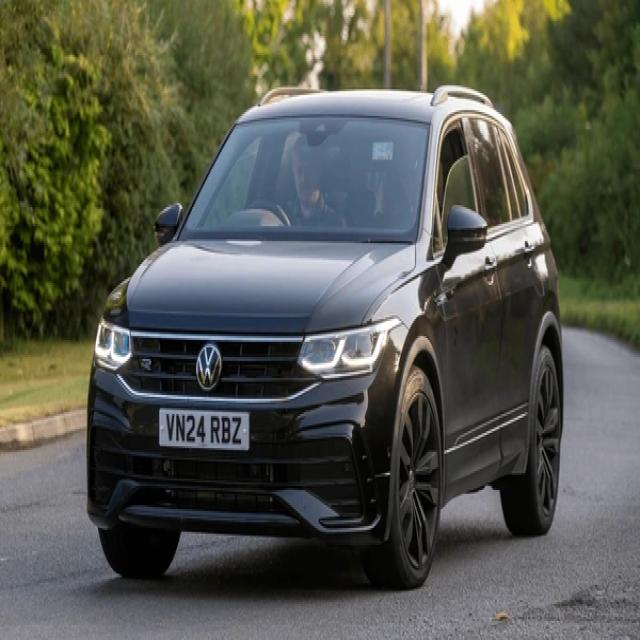wolksvogen: (193, 344, 226, 391)
